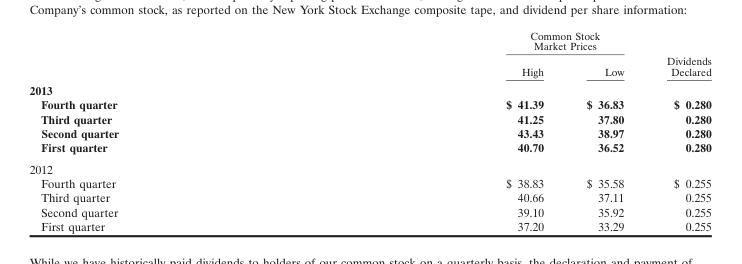table: (28, 28, 710, 232)
table column: (28, 28, 311, 232), (311, 28, 564, 232), (564, 28, 644, 232), (644, 28, 710, 232)
table column header: (28, 28, 710, 80)
table projected row header: (28, 157, 710, 175), (28, 80, 710, 97)
table row: (28, 28, 710, 58), (28, 58, 710, 80), (28, 139, 710, 157), (28, 157, 710, 175), (28, 80, 710, 97), (28, 175, 710, 190), (28, 97, 710, 111), (28, 111, 710, 125), (28, 125, 710, 139), (28, 190, 710, 204), (28, 204, 710, 218), (28, 218, 710, 232)
table spanning cell: (311, 28, 644, 58), (644, 28, 710, 80)
